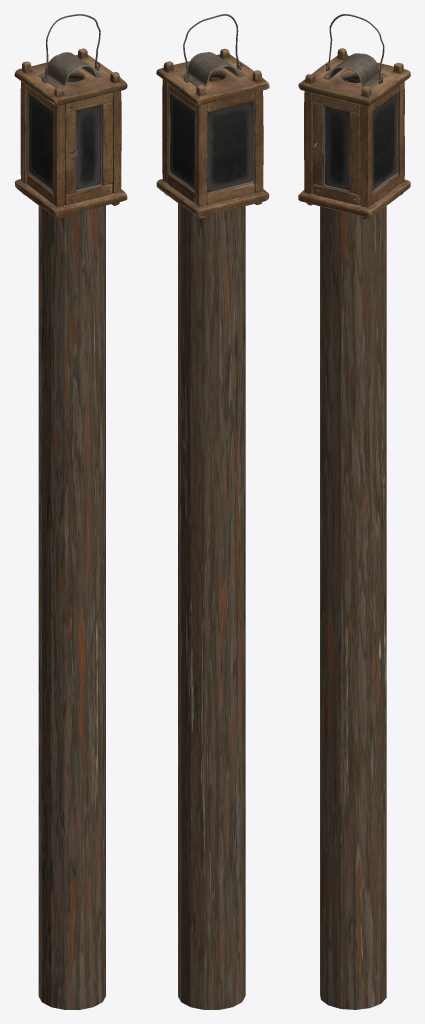
Rendered from torch_post_realistic.glb.
3 views of the same model, side by side, from view 1: azimuth 30°, elevation 25°; view 2: azimuth 210°, elevation 25°; view 3: azimuth 330°, elevation 25° (orthographic).
Parts seen in each view (by area): view 1: Cylinder, wooden_lantern_01, wooden_lantern_01_door, wooden_lantern_01_handle; view 2: Cylinder, wooden_lantern_01, wooden_lantern_01_handle; view 3: Cylinder, wooden_lantern_01, wooden_lantern_01_door, wooden_lantern_01_handle.
Boxes of the visible parts, left/top/right/bottom form: Cylinder: left=38, top=205, right=105, bottom=1009; wooden_lantern_01: left=14, top=48, right=127, bottom=218; wooden_lantern_01_door: left=64, top=93, right=113, bottom=204; wooden_lantern_01_handle: left=41, top=14, right=100, bottom=82; Cylinder: left=178, top=203, right=245, bottom=1009; wooden_lantern_01: left=156, top=48, right=269, bottom=218; wooden_lantern_01_handle: left=183, top=14, right=242, bottom=81; Cylinder: left=320, top=206, right=386, bottom=1009; wooden_lantern_01: left=298, top=48, right=410, bottom=219; wooden_lantern_01_door: left=312, top=93, right=360, bottom=205; wooden_lantern_01_handle: left=326, top=14, right=384, bottom=82.
Bounding box in the file's own units: 0.1751 × 2.24 × 0.186.
Materials: 3 (3 with a texture image).
